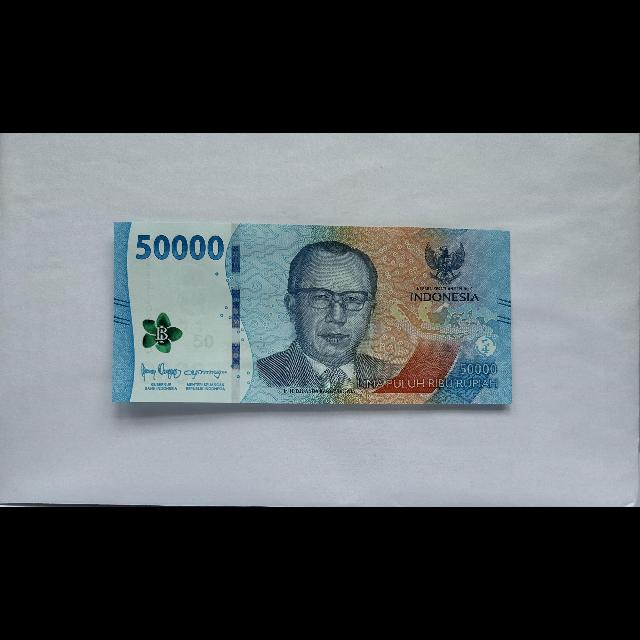Asli-50k: (112, 220, 515, 407)
Tinta-Asli-50k: (142, 312, 184, 354)
